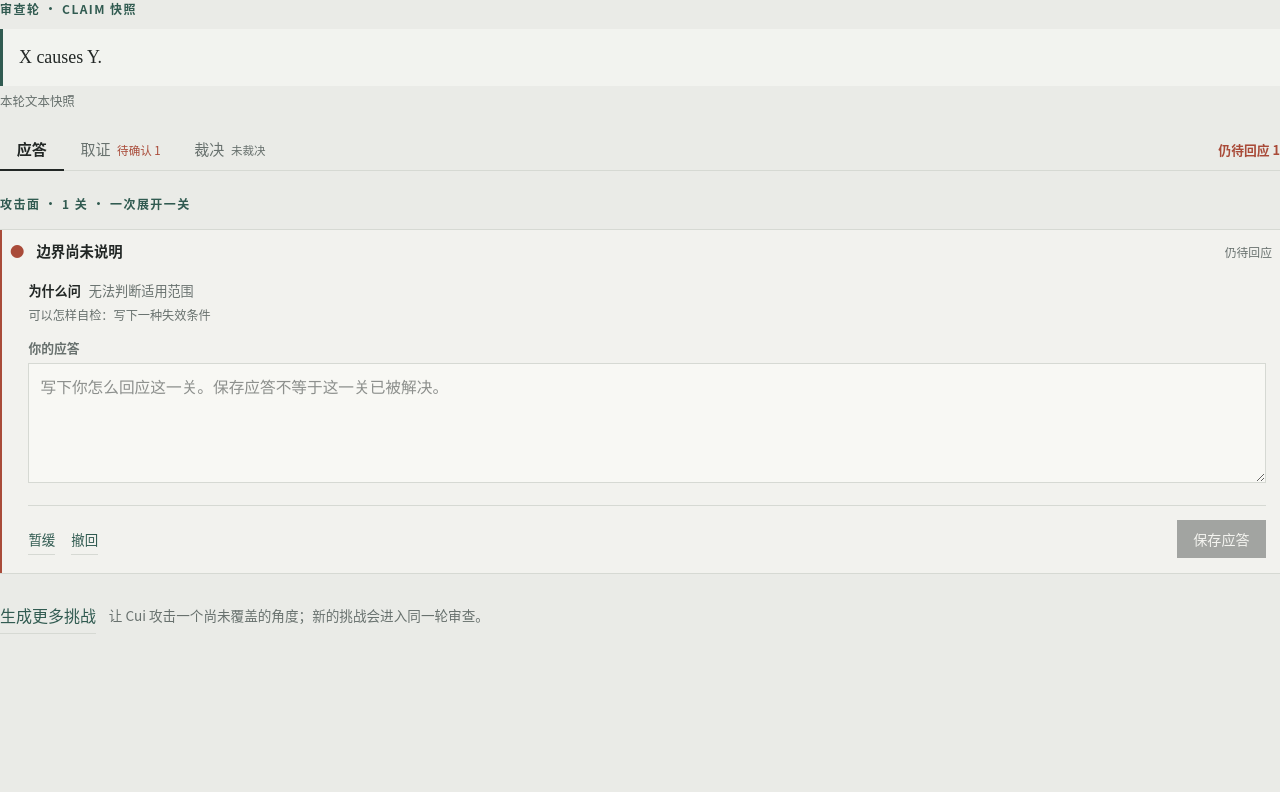
Test case: ReviewRoundDesk evidence surface › shows materials and a pending candidate with a confirm label reflecting the relation
This screenshot has width=1280, height=792.
Click the tab "取证 待确认 1". click: (121, 150)
box: [64, 128, 178, 171]
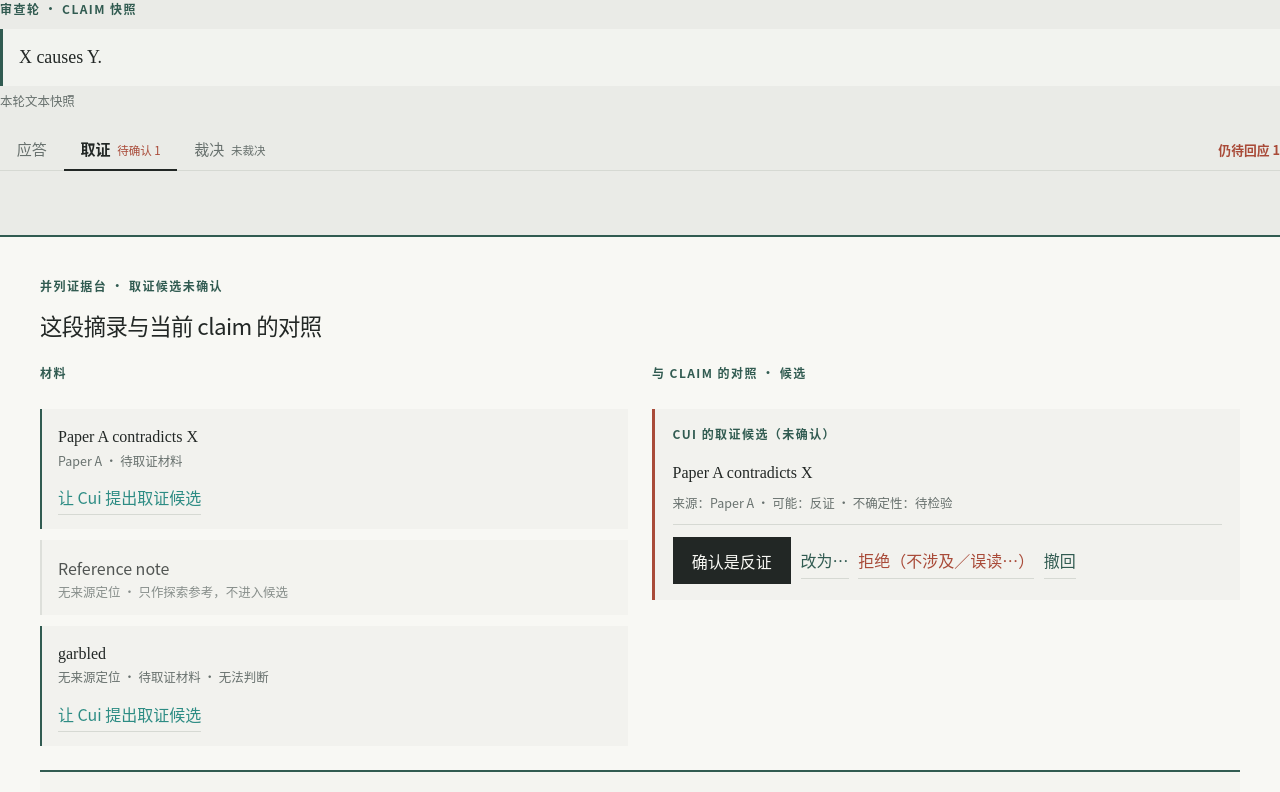
Expected: the text "Reference note" is shown, [58, 556, 169, 580]
Expected: the 1st text "Paper A contradicts X" is shown, [58, 428, 198, 445]
Expected: the text "无来源定位 · 只作探索参考，不进入候选" is shown, [58, 583, 288, 601]
